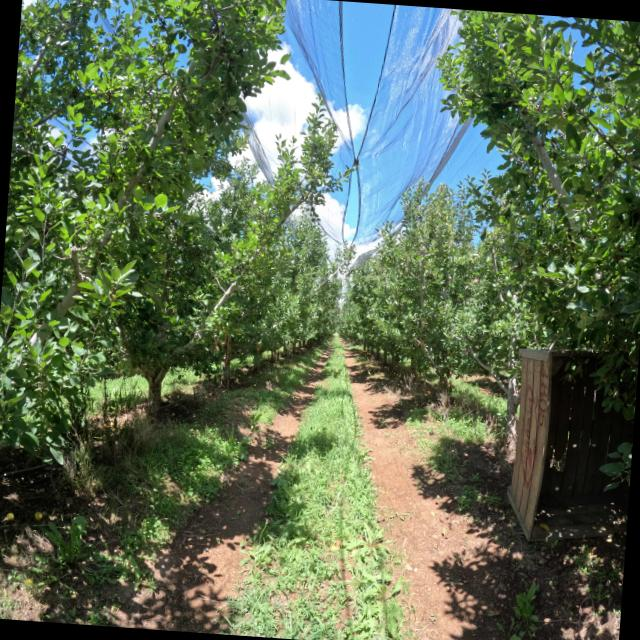-FireBlight-: (257, 344, 259, 351)
